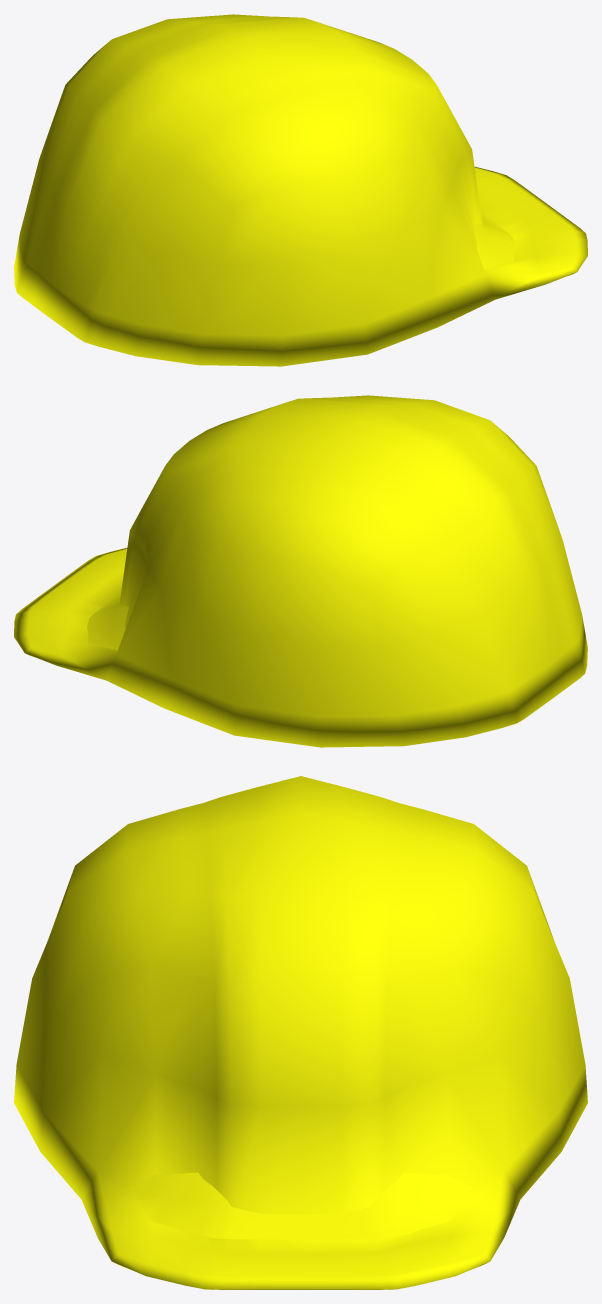
Rendered from hardHat.fbx.
3 views of the same model, one above another, from view 1: azimuth 30°, elevation 25°; view 2: azimuth 150°, elevation 25°; view 3: azimuth 270°, elevation 25° (orthographic). The views are drawn at different scales.
Parts seen in each view (by area): view 1: Cube; view 2: Cube; view 3: Cube.
Part boxes in pixels (left/top/right/bottom): Cube: left=14, top=14, right=587, bottom=366; Cube: left=14, top=395, right=587, bottom=747; Cube: left=14, top=776, right=587, bottom=1289.
Size of the model in its own units: 64.25 by 30.3 by 52.35.
